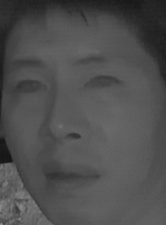eye: (84, 72, 125, 93), (9, 77, 47, 98)
mouth: (40, 159, 101, 195)
